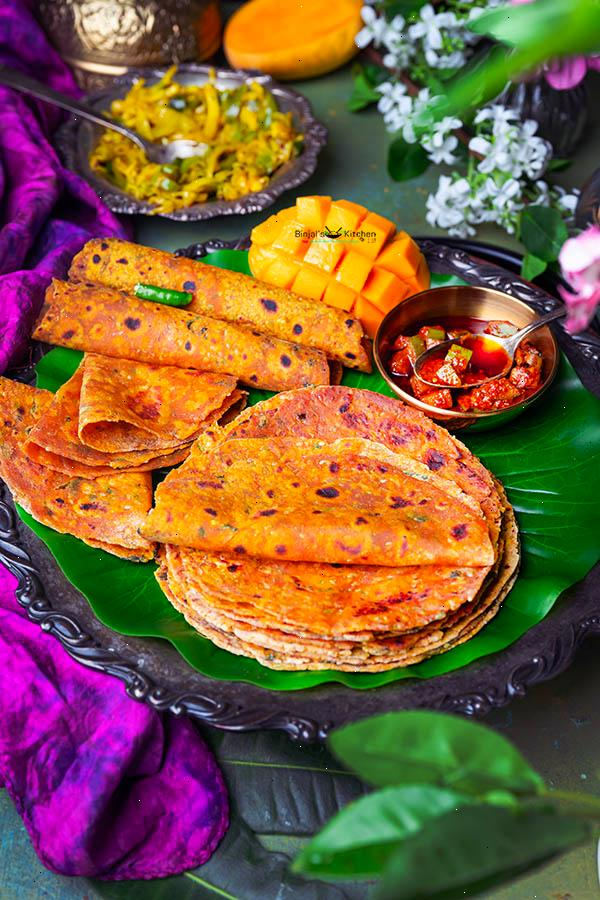aloo sabji: (103, 76, 319, 226)
thepla: (26, 261, 447, 630)
